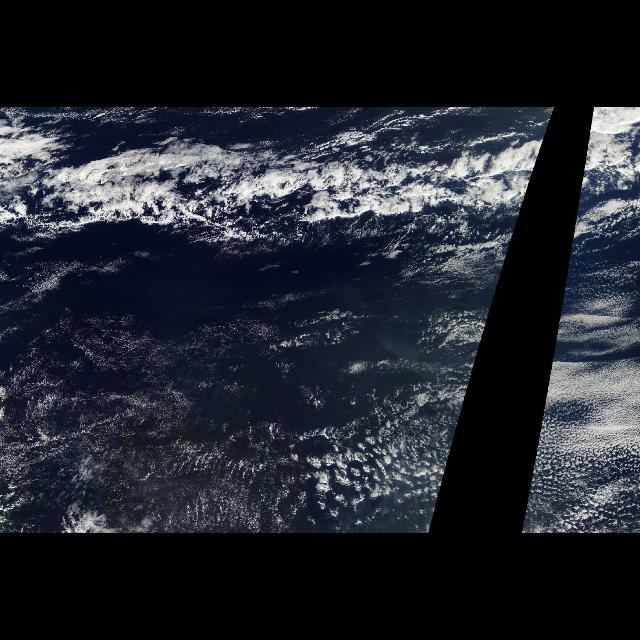Fish: (2, 115, 554, 292), (564, 115, 640, 292)
Sugar: (2, 254, 296, 532), (303, 262, 505, 530), (522, 262, 636, 530)
